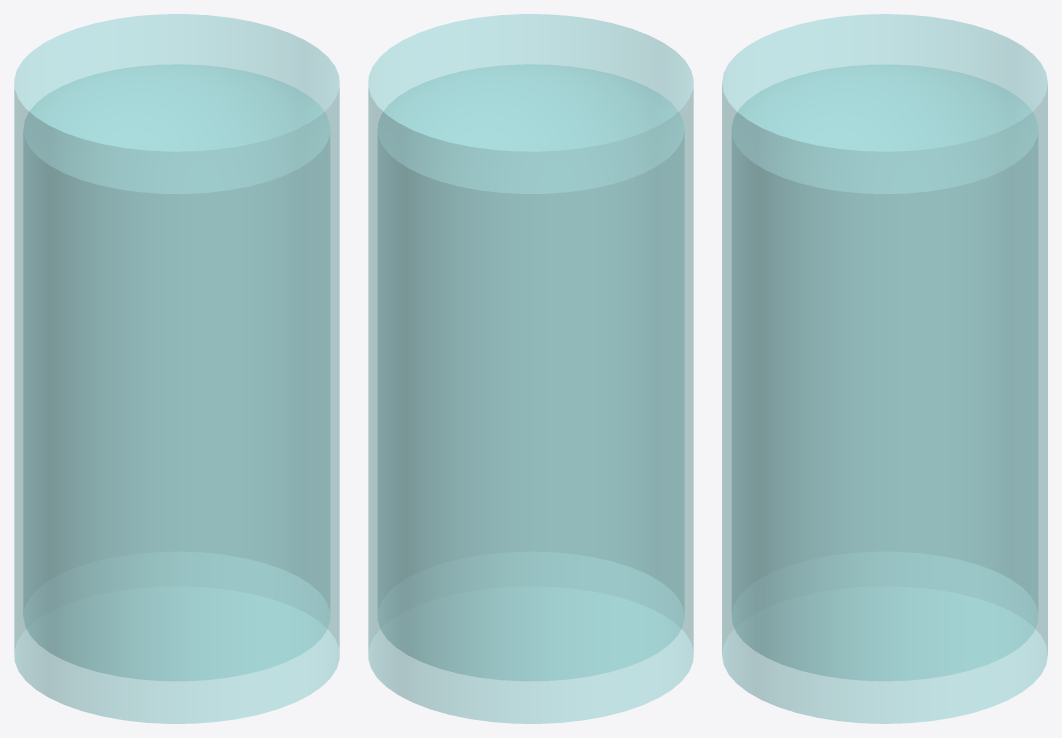
File: GlassEnvelope.gltf
3 views of the same model, side by side, from view 1: azimuth 30°, elevation 25°; view 2: azimuth 150°, elevation 25°; view 3: azimuth 270°, elevation 25° (orthographic).
Parts seen in each view (by area): view 1: Revolution; view 2: Revolution; view 3: Revolution.
Part boxes in pixels (left/top/right/bottom): Revolution: left=14, top=14, right=339, bottom=723; Revolution: left=368, top=14, right=693, bottom=723; Revolution: left=722, top=14, right=1047, bottom=723.
Size of the model in its own units: 0.0382 by 0.074 by 0.0382.
